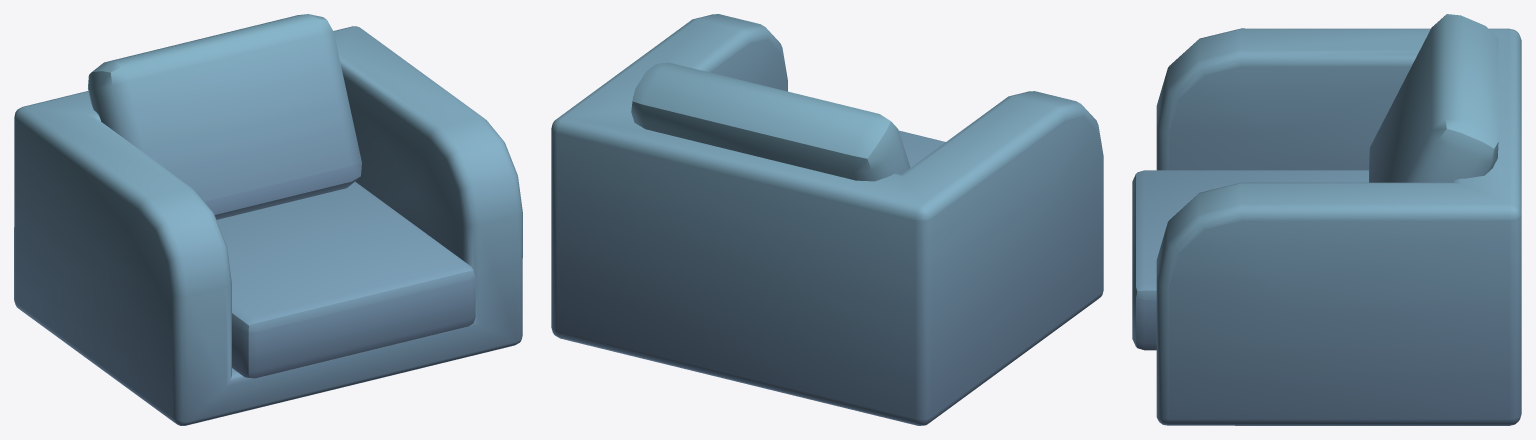
File: kit_armchair.glb
The picture shows the model from 3 angles, left to right: view 1: azimuth 30°, elevation 25°; view 2: azimuth 150°, elevation 25°; view 3: azimuth 270°, elevation 25°; orthographic projection. The views are drawn at different scales.
Visible parts, largest first — view 1: armchair; view 2: armchair; view 3: armchair.
Part boxes in pixels (<box>): armchair: <box>14,14,522,425</box>; armchair: <box>551,14,1103,425</box>; armchair: <box>1132,14,1521,425</box>.
Bounding box in the file's own units: 0.9018 × 0.6133 × 0.8016.
1 material, 1 textured.
